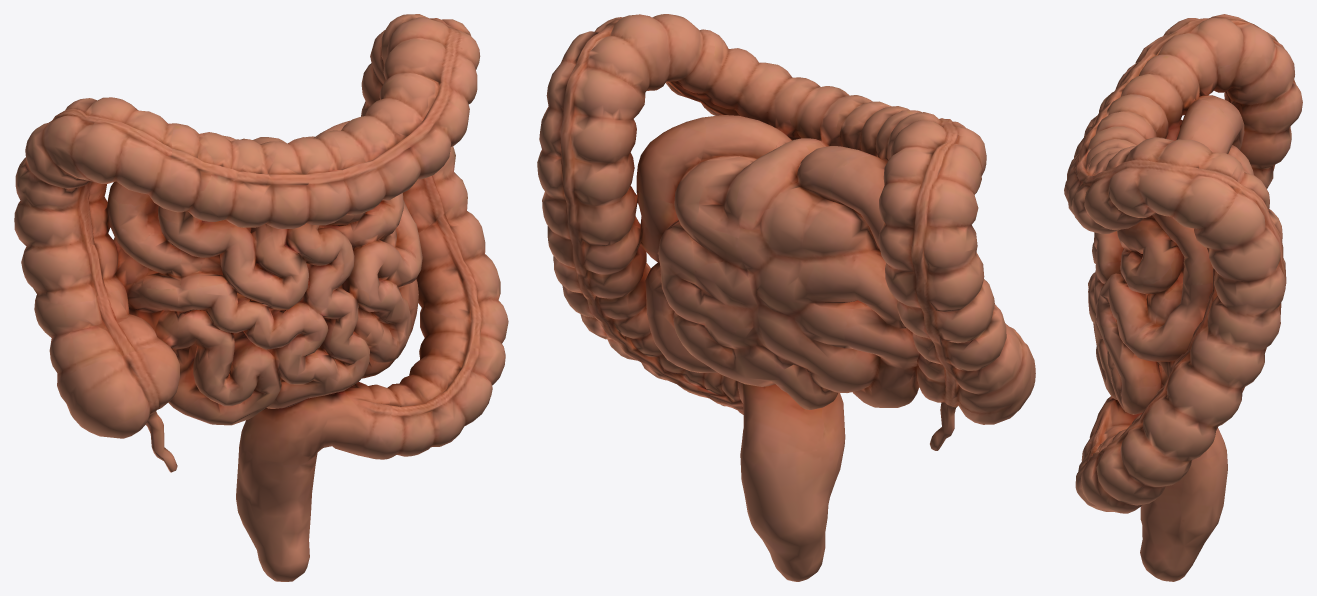
Rendered from intestine-lod1.glb.
The picture shows the model from 3 angles, left to right: view 1: azimuth 30°, elevation 25°; view 2: azimuth 150°, elevation 25°; view 3: azimuth 270°, elevation 25°; orthographic projection. The views are drawn at different scales.
Parts seen in each view (by area): view 1: tripo_node_62b379d0-ce68-4c4f-9391-eb1f11136f30; view 2: tripo_node_62b379d0-ce68-4c4f-9391-eb1f11136f30; view 3: tripo_node_62b379d0-ce68-4c4f-9391-eb1f11136f30.
Part boxes in pixels (left/top/right/bottom): tripo_node_62b379d0-ce68-4c4f-9391-eb1f11136f30: left=14, top=14, right=508, bottom=581; tripo_node_62b379d0-ce68-4c4f-9391-eb1f11136f30: left=537, top=14, right=1035, bottom=581; tripo_node_62b379d0-ce68-4c4f-9391-eb1f11136f30: left=1064, top=14, right=1302, bottom=581.
Size of the model in its own units: 0.8854 by 0.998 by 0.4262.
1 material, 1 textured.
